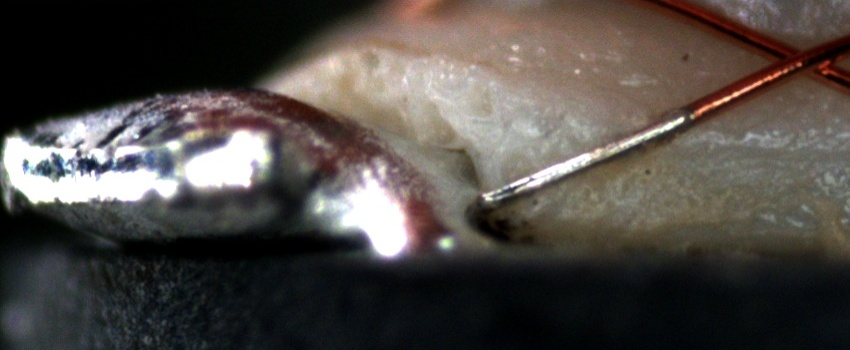CL: (749, 31, 845, 86)
DL: (643, 117, 850, 181)
TS: (480, 107, 691, 211)
